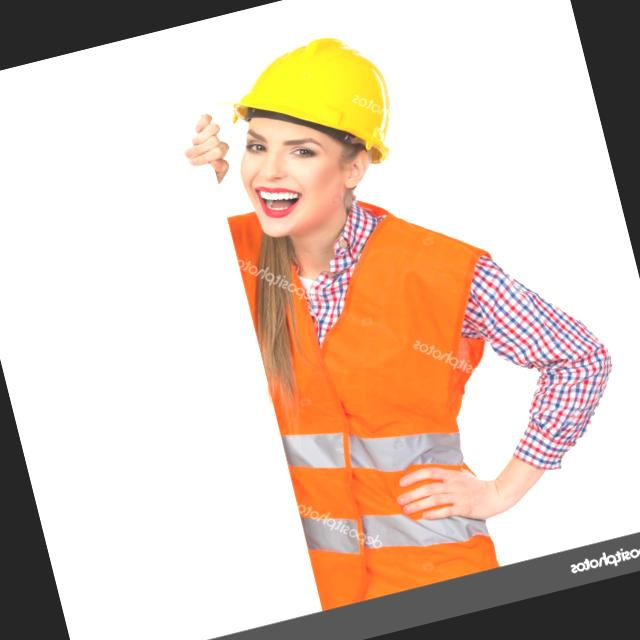helmet: (216, 20, 411, 208)
vest: (232, 168, 548, 588)
